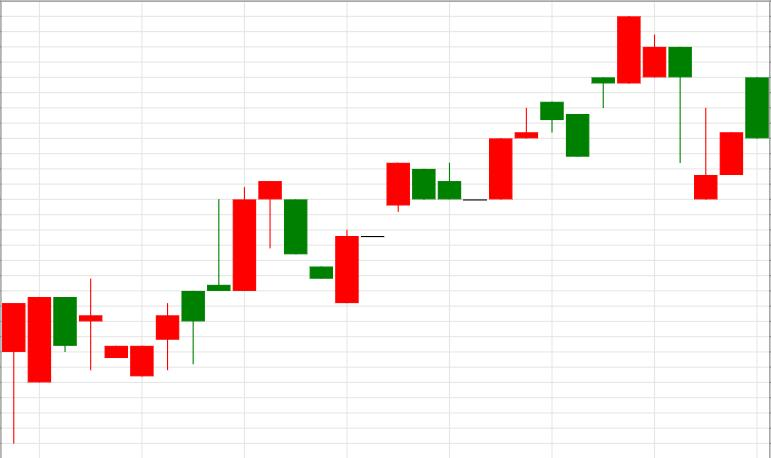evening_star_fall: (130, 181, 308, 377)
